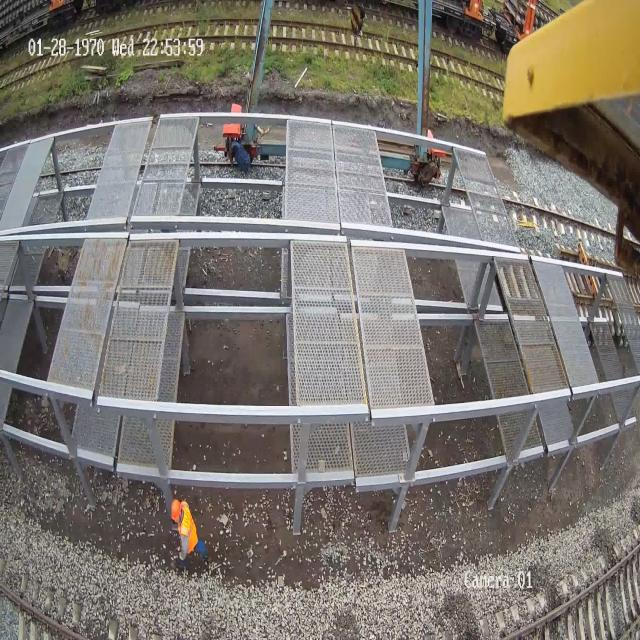Helmet: (170, 498, 180, 522)
Person: (170, 498, 198, 572)
